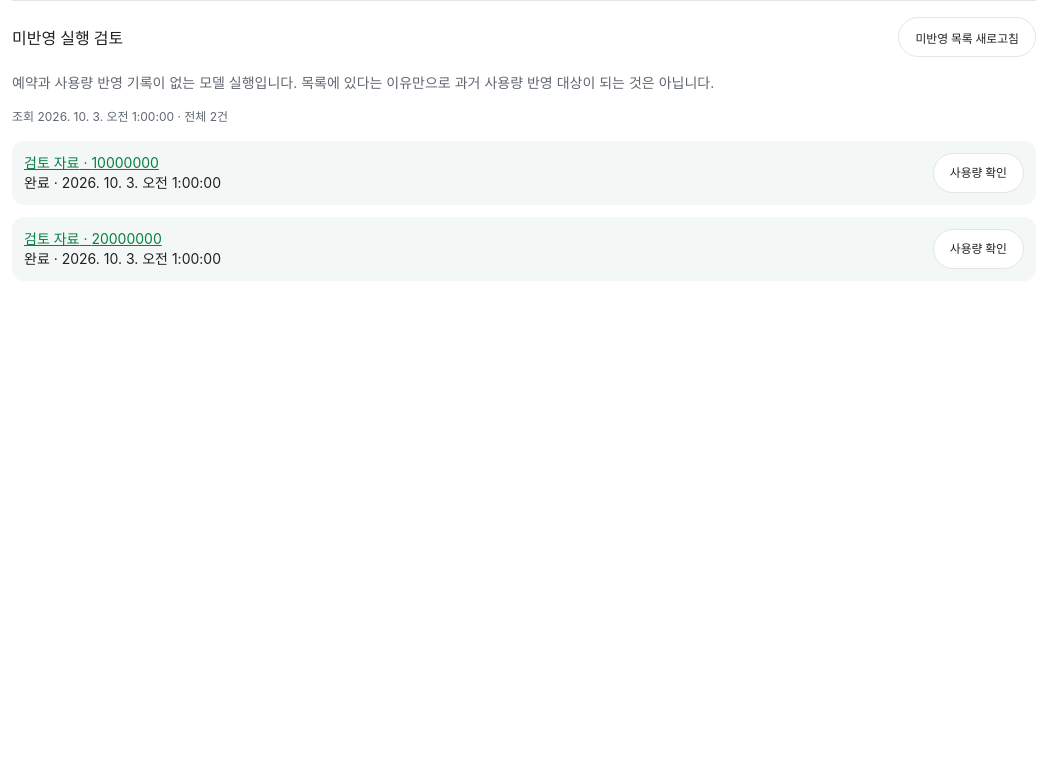
미반영 실행 사용량 확인 › 목록에서 선택한 실행만 검증하고 GET 조회로 예상 사용량과 출처를 표시한다
Click the button "사용량 확인" in the row of "10000000" at x=978, y=173, box 933,153 -> 1024,193
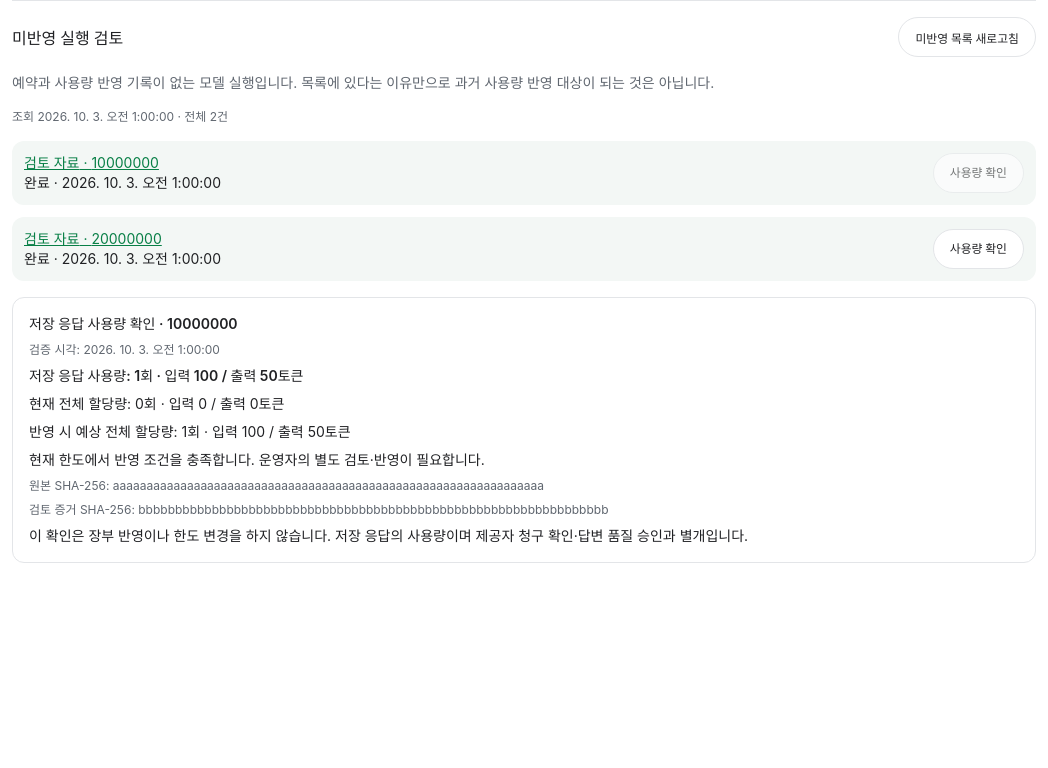
Expected: the text "저장 응답 사용량: 1회 · 입력 100 / 출력 50토큰" is shown, 29,367 -> 303,384
Expected: the text "반영 시 예상 전체 할당량: 1회 · 입력 100 / 출력 50토큰" is shown, 29,423 -> 351,440
Expected: the text "장부 반영이나 한도 변경을 하지 않습니다" is shown, 29,527 -> 748,544
